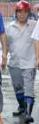boots: (14, 94, 24, 116), (0, 84, 5, 91)
hard-hat: (14, 1, 30, 12)
